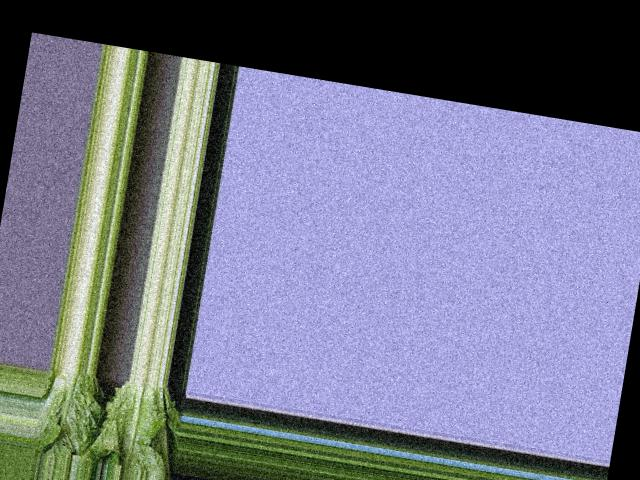lettuce: (37, 367, 105, 457)
